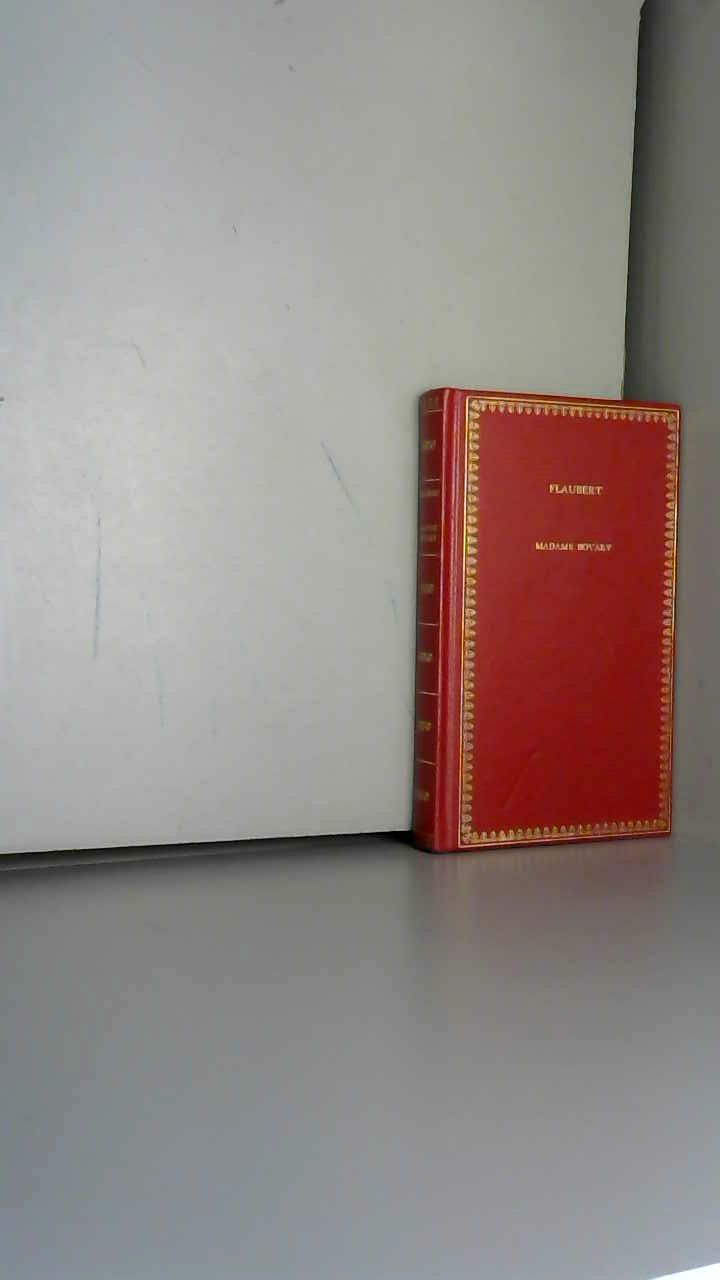book: (390, 360, 720, 905)
